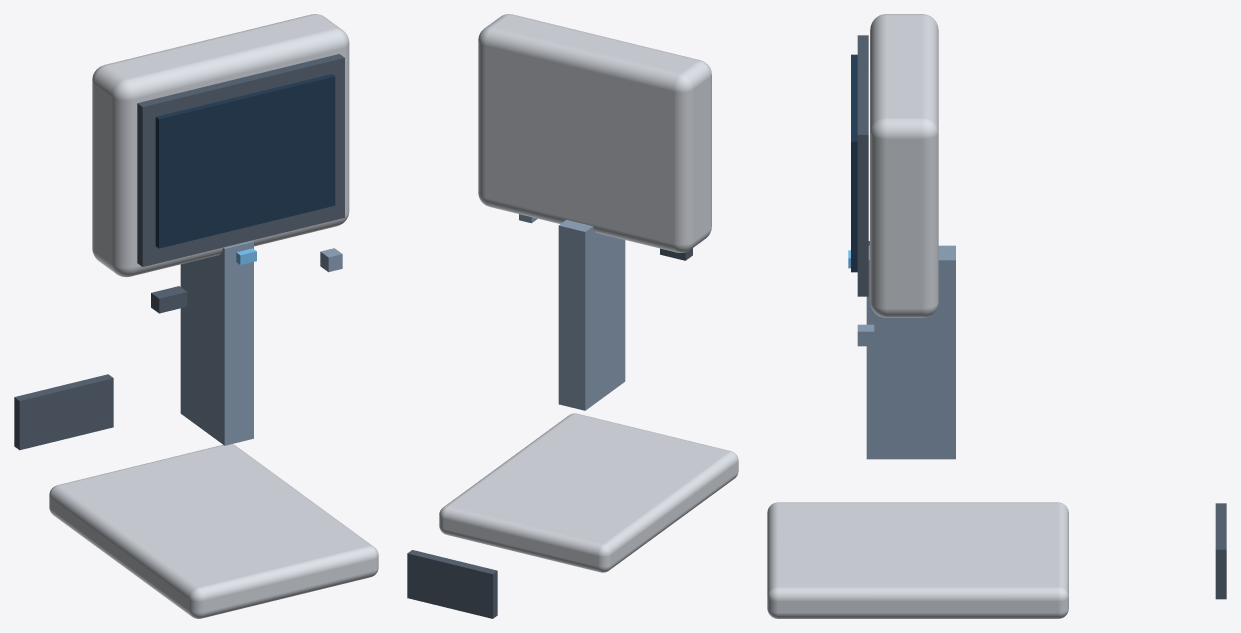
3 renders of one model, left to right at view 1: azimuth 30°, elevation 25°; view 2: azimuth 150°, elevation 25°; view 3: azimuth 270°, elevation 25°, orthographic. The views are drawn at different scales.
Visible parts, largest first — view 1: stand-base, screen-surface, computer-body, stand-neck, screen-bezel, power-port-back, computer-detail; view 2: computer-body, stand-base, stand-neck, power-port-back; view 3: stand-base, computer-body, stand-neck, screen-bezel, screen-surface, power-port-back.
Boxes of the visible parts, x1,y1,x2,y2 form: stand-base: (49,444,378,618); screen-surface: (155,74,335,248); computer-body: (92,14,349,277); stand-neck: (180,240,253,445); screen-bezel: (137,54,344,266); power-port-back: (14,374,113,450); computer-detail: (151,286,187,313); computer-body: (478,14,711,252); stand-base: (439,413,738,572); stand-neck: (558,220,625,410); power-port-back: (407,550,497,618); stand-base: (767,502,1068,618); computer-body: (870,14,938,317); stand-neck: (866,245,955,459); screen-bezel: (857,35,868,296); screen-surface: (851,54,857,272); power-port-back: (1215,503,1226,599).
Bounding box in the file's own units: 0.2 × 0.41 × 0.335.
